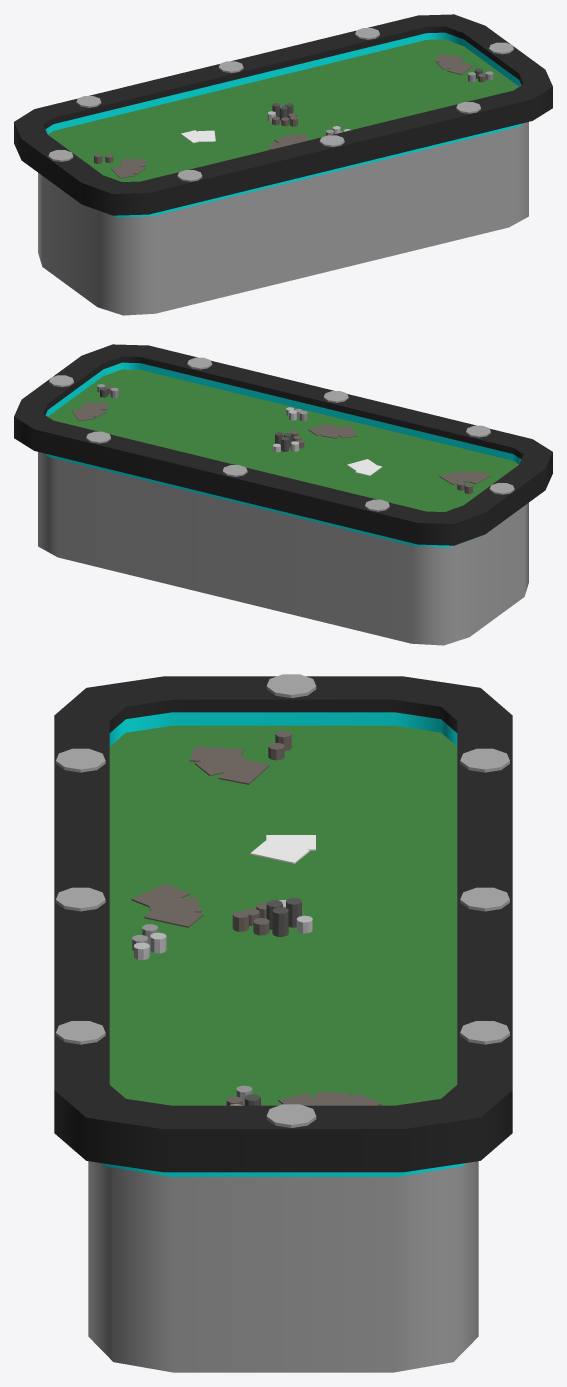
File: PokerTable_01.fbx
3 views of the same model, one above another, from view 1: azimuth 30°, elevation 25°; view 2: azimuth 150°, elevation 25°; view 3: azimuth 270°, elevation 25° (orthographic). The views are drawn at different scales.
Visible parts, largest first — view 1: PokerTable_01; view 2: PokerTable_01; view 3: PokerTable_01.
Boxes of the visible parts, x1,y1,x2,y2 form: PokerTable_01: (14, 14, 552, 315); PokerTable_01: (14, 344, 552, 645); PokerTable_01: (54, 674, 512, 1372).
Bounding box in the file's own units: 869 × 237 × 372.
